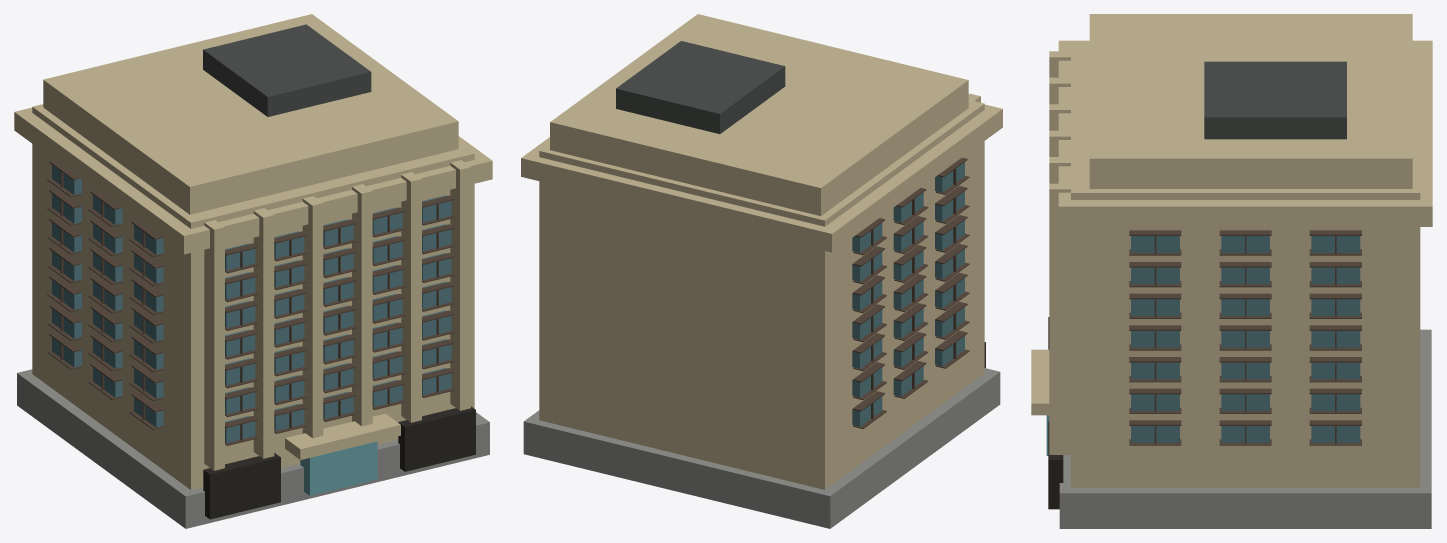
File: office-modules.glb
The picture shows the model from 3 angles, left to right: view 1: azimuth 30°, elevation 25°; view 2: azimuth 150°, elevation 25°; view 3: azimuth 270°, elevation 25°; orthographic projection. The views are drawn at different scales.
Parts seen in each view (by area): view 1: limestone-office-warm-limestone-merged, limestone-office-smoked-curtain-glass-merged, limestone-office-weathered-bronze-merged, limestone-office-architectural-concrete-merged, limestone-office-roof-membrane-merged, limestone-office-interior-shadow-card-merged, limestone-office-blue-green-curtain-glass-merged; view 2: limestone-office-warm-limestone-merged, limestone-office-architectural-concrete-merged, limestone-office-roof-membrane-merged, limestone-office-weathered-bronze-merged, limestone-office-smoked-curtain-glass-merged; view 3: limestone-office-warm-limestone-merged, limestone-office-architectural-concrete-merged, limestone-office-smoked-curtain-glass-merged, limestone-office-weathered-bronze-merged, limestone-office-roof-membrane-merged, limestone-office-interior-shadow-card-merged.
Boxes of the visible parts, left/top/right/bottom form: limestone-office-warm-limestone-merged: left=14, top=14, right=492, bottom=489; limestone-office-smoked-curtain-glass-merged: left=52, top=165, right=451, bottom=442; limestone-office-weathered-bronze-merged: left=47, top=160, right=454, bottom=445; limestone-office-architectural-concrete-merged: left=17, top=369, right=489, bottom=528; limestone-office-roof-membrane-merged: left=203, top=24, right=371, bottom=116; limestone-office-interior-shadow-card-merged: left=203, top=406, right=475, bottom=519; limestone-office-blue-green-curtain-glass-merged: left=300, top=441, right=377, bottom=495; limestone-office-warm-limestone-merged: left=521, top=14, right=1002, bottom=489; limestone-office-architectural-concrete-merged: left=523, top=368, right=1000, bottom=528; limestone-office-roof-membrane-merged: left=616, top=41, right=785, bottom=133; limestone-office-weathered-bronze-merged: left=853, top=157, right=969, bottom=428; limestone-office-smoked-curtain-glass-merged: left=852, top=162, right=964, bottom=426; limestone-office-warm-limestone-merged: left=1031, top=14, right=1432, bottom=487; limestone-office-architectural-concrete-merged: left=1059, top=329, right=1431, bottom=528; limestone-office-smoked-curtain-glass-merged: left=1131, top=236, right=1360, bottom=442; limestone-office-weathered-bronze-merged: left=1129, top=230, right=1361, bottom=445; limestone-office-roof-membrane-merged: left=1204, top=61, right=1346, bottom=139; limestone-office-interior-shadow-card-merged: left=1048, top=317, right=1063, bottom=509.
Bounding box in the file's own units: 1.04 × 1.13 × 1.07.
